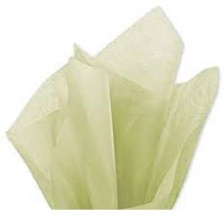tissue: (1, 2, 224, 213)
